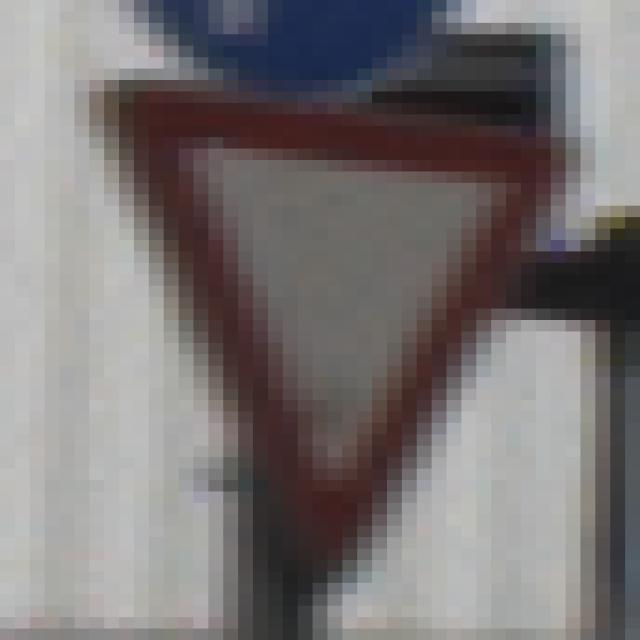Give Way: (90, 69, 567, 584)
